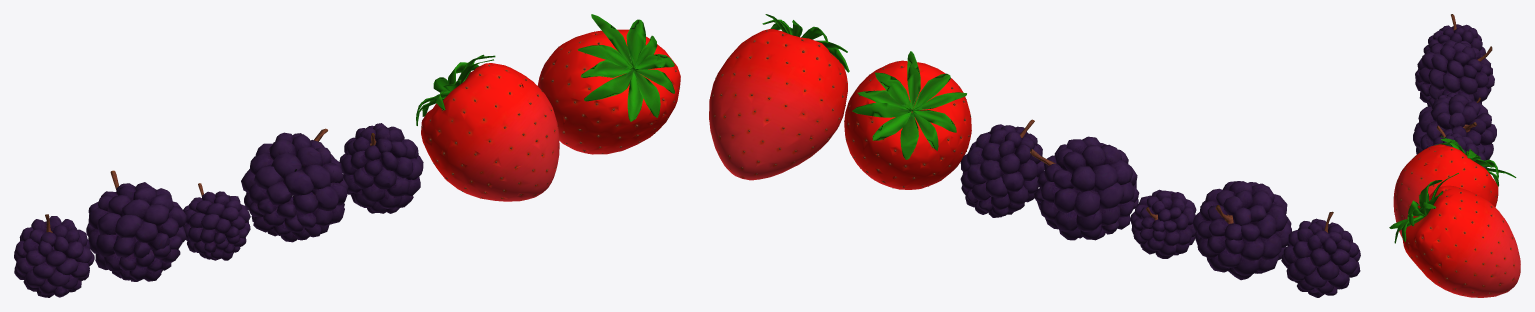
The model's file is xm-berries.glb.
3 renders of one model, left to right at view 1: azimuth 30°, elevation 25°; view 2: azimuth 150°, elevation 25°; view 3: azimuth 270°, elevation 25°, orthographic. The views are drawn at different scales.
Visible parts, largest first — view 1: xm-berries-5, xm-berries-6, xm-berries-3, xm-berries-1, xm-berries-4, xm-berries-0, xm-berries-2; view 2: xm-berries-6, xm-berries-5, xm-berries-3, xm-berries-1, xm-berries-4, xm-berries-0, xm-berries-2; view 3: xm-berries-6, xm-berries-5, xm-berries-1, xm-berries-3, xm-berries-0, xm-berries-4, xm-berries-2.
Part boxes in pixels (x1,y1,x2,y2): xm-berries-5: (416,54,559,201); xm-berries-6: (537,14,680,154); xm-berries-3: (241,128,348,242); xm-berries-1: (86,170,186,281); xm-berries-4: (339,123,423,213); xm-berries-0: (14,214,94,297); xm-berries-2: (183,183,250,260); xm-berries-6: (709,14,849,180); xm-berries-5: (844,51,971,189); xm-berries-3: (1030,136,1139,240); xm-berries-1: (1192,181,1291,280); xm-berries-4: (960,119,1044,217); xm-berries-0: (1281,211,1360,297); xm-berries-2: (1130,189,1196,258); xm-berries-6: (1389,173,1520,297); xm-berries-5: (1393,136,1516,238); xm-berries-1: (1415,39,1494,106); xm-berries-3: (1413,94,1496,159); xm-berries-0: (1423,14,1485,55); xm-berries-4: (1426,125,1487,167); xm-berries-2: (1430,92,1480,106).
Bounding box in the file's own units: 1 × 0.2161 × 0.226.
2 materials, 2 textured.
